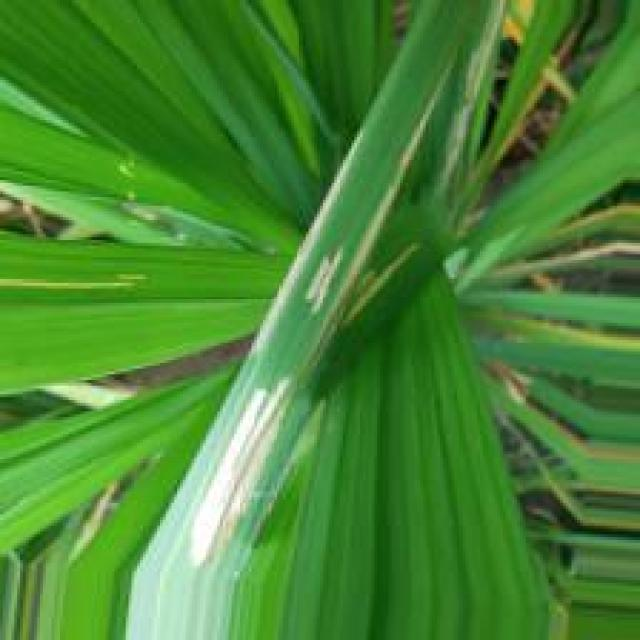Rice_Hispa: (317, 82, 439, 326), (248, 139, 356, 355), (195, 381, 288, 570), (294, 251, 341, 316)
